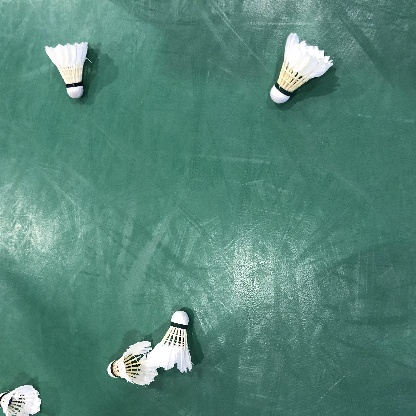ball_single: (270, 32, 333, 104), (146, 311, 192, 373), (45, 42, 88, 98), (107, 341, 158, 386), (0, 385, 42, 416)
